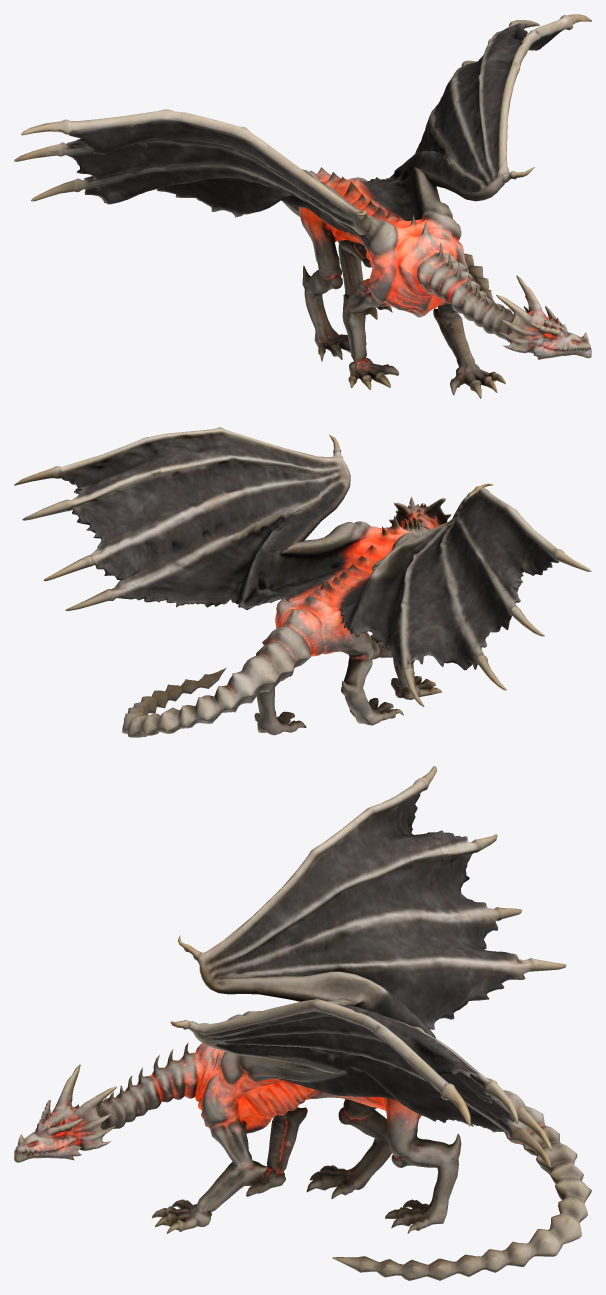
Rendered from MZ4250 - Dracolich.glb.
3 renders of one model, top to bottom at view 1: azimuth 30°, elevation 25°; view 2: azimuth 150°, elevation 25°; view 3: azimuth 270°, elevation 25°, orthographic. The views are drawn at different scales.
Parts seen in each view (by area): view 1: Dracolich.001; view 2: Dracolich.001; view 3: Dracolich.001.
Part boxes in pixels (bbox=[...]): Dracolich.001: bbox=[14, 14, 591, 398]; Dracolich.001: bbox=[14, 427, 591, 737]; Dracolich.001: bbox=[14, 766, 591, 1280].
Size of the model in its own units: 253 by 111 by 197.
1 material, 1 textured.
